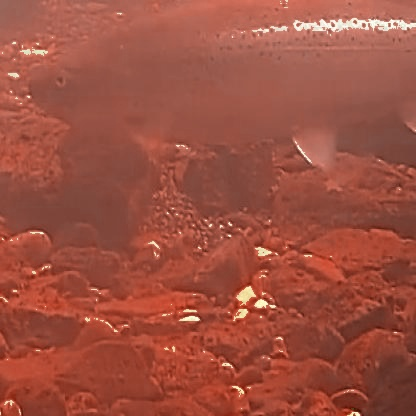salmon: (23, 0, 415, 179)
